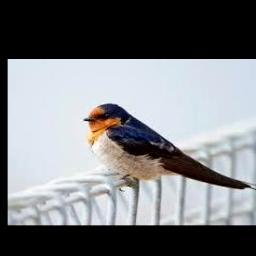Swallow: (83, 103, 256, 194)
